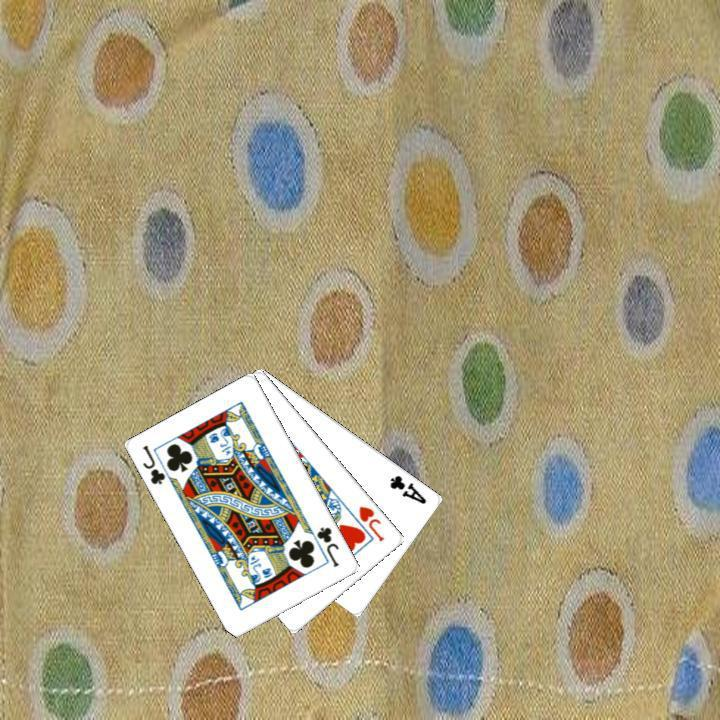A: (386, 471, 429, 506)
J: (138, 441, 168, 487), (312, 522, 341, 569), (355, 502, 387, 544)
